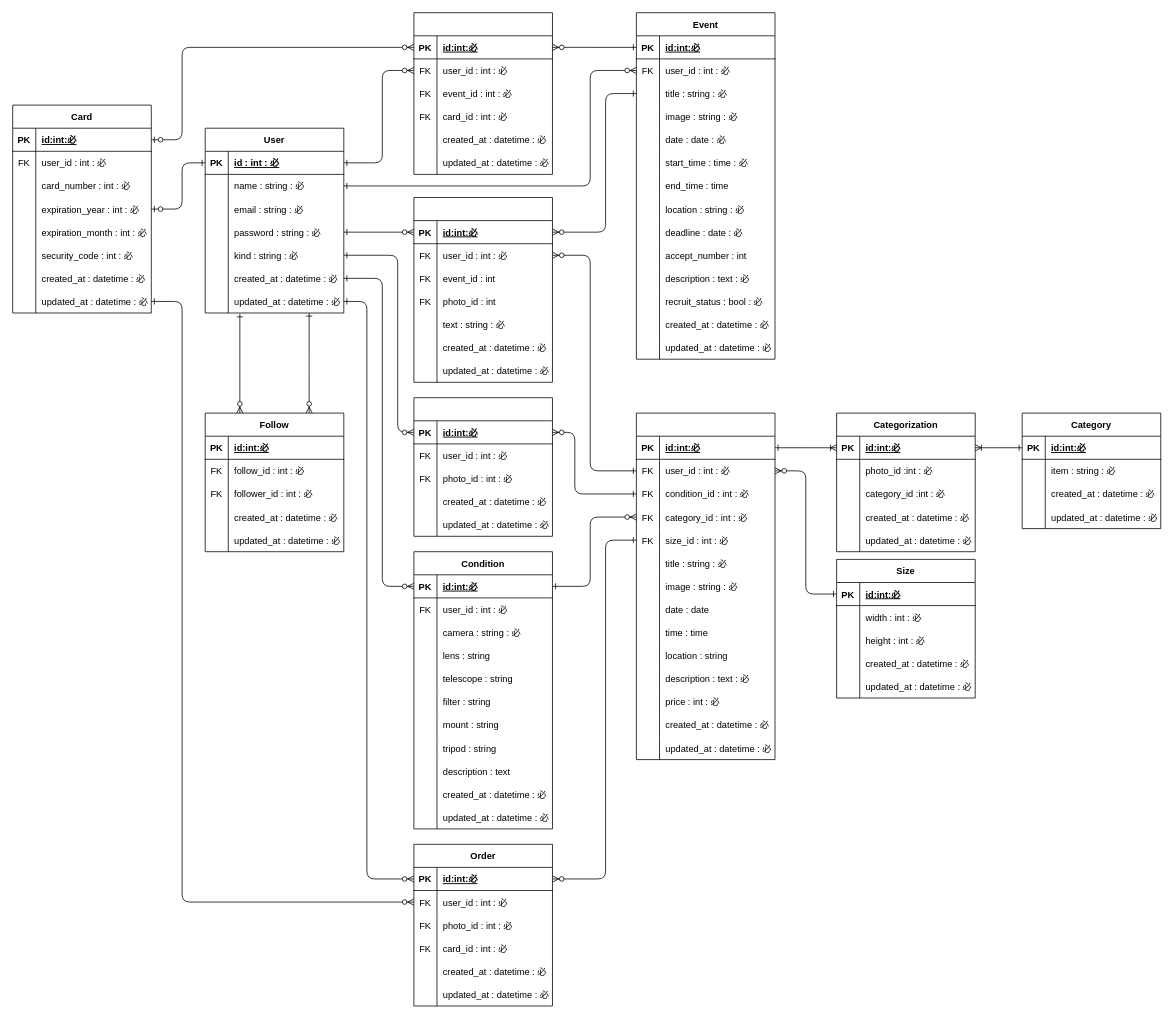
The diagram is 1173 pixels wide and 1019 high, and some of its shapes have lost their labels. Each missing label, with the box of its shape:
Comment: (413, 197, 552, 382)
Favorite: (413, 397, 552, 536)
Participant: (413, 12, 552, 174)
Photo: (636, 412, 775, 760)
